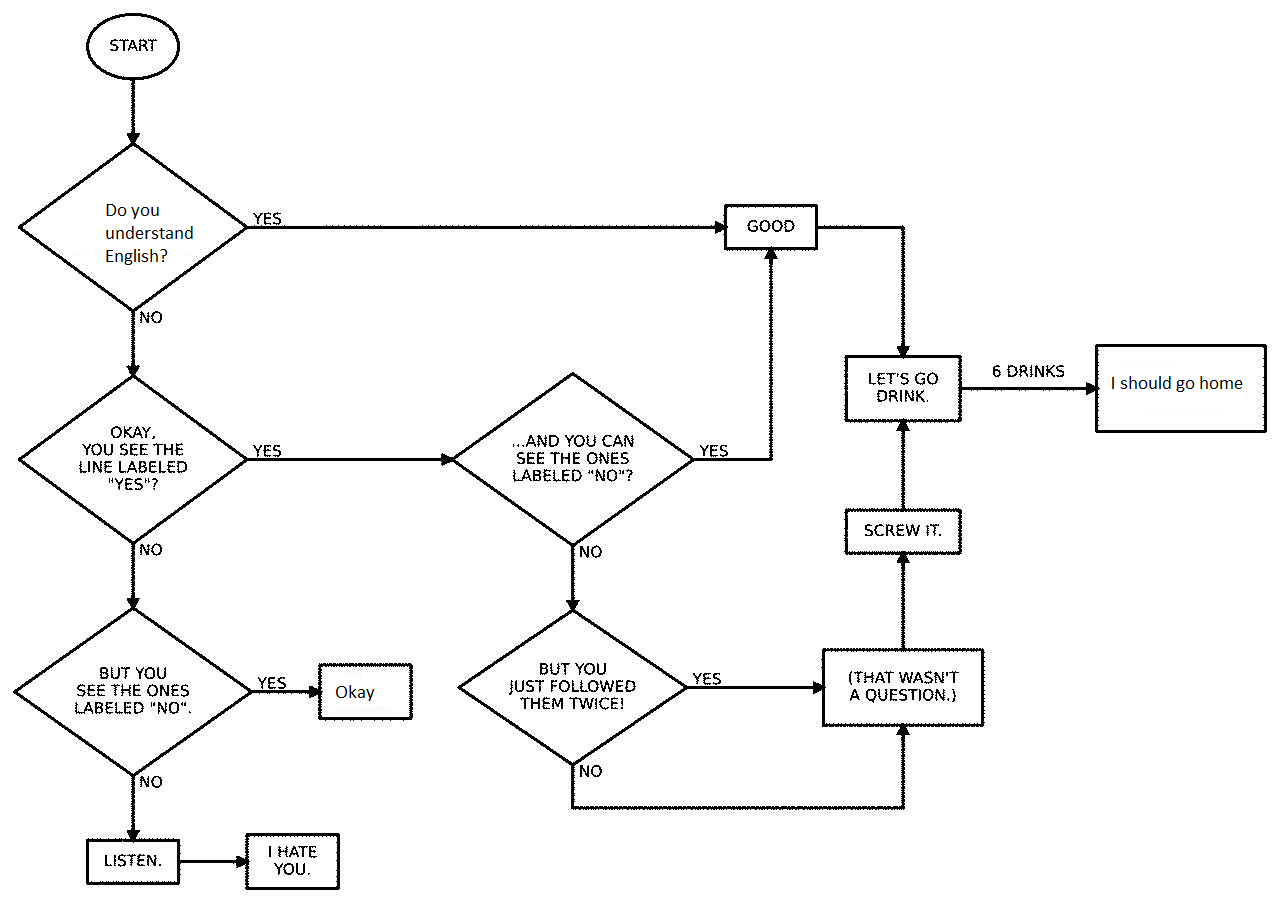arrow: (564, 721, 914, 814), (689, 245, 784, 462), (818, 219, 913, 357), (245, 219, 728, 238), (244, 446, 460, 468), (683, 679, 828, 701), (890, 549, 914, 651), (120, 531, 149, 612), (892, 416, 916, 512), (243, 677, 323, 703), (120, 767, 145, 846), (124, 301, 148, 382), (561, 543, 584, 616), (957, 382, 1096, 394), (176, 852, 250, 871), (124, 82, 145, 148)
decision: (450, 369, 694, 549), (7, 602, 254, 776), (14, 372, 251, 546), (14, 141, 251, 311), (451, 606, 691, 766)
process: (1090, 338, 1271, 436), (816, 643, 988, 730), (840, 351, 966, 427), (838, 505, 967, 561), (242, 828, 345, 893), (314, 659, 417, 723), (718, 201, 824, 253), (82, 834, 182, 886)
terminator: (84, 7, 183, 83)
text: (76, 422, 192, 491), (507, 429, 639, 486), (502, 657, 634, 713), (73, 659, 192, 719), (102, 190, 197, 264), (844, 665, 964, 708), (1102, 372, 1246, 398), (863, 369, 942, 402), (859, 518, 946, 542), (262, 843, 323, 876), (985, 358, 1068, 380), (99, 850, 166, 872), (105, 31, 162, 55), (333, 680, 381, 704), (250, 669, 291, 694), (694, 438, 736, 462), (745, 216, 801, 233), (251, 202, 283, 229), (250, 438, 287, 459), (133, 305, 168, 326), (135, 770, 168, 792), (574, 760, 606, 781), (690, 666, 722, 686), (137, 538, 164, 559), (576, 543, 604, 557)
